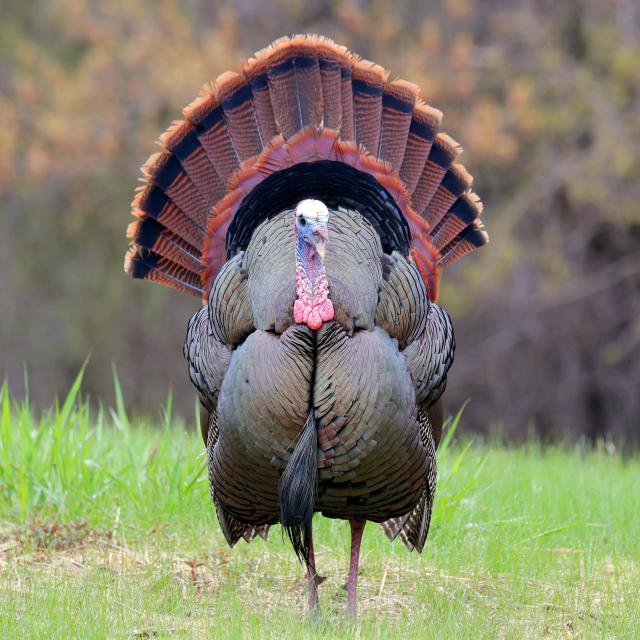Turkey: (117, 28, 494, 610)
